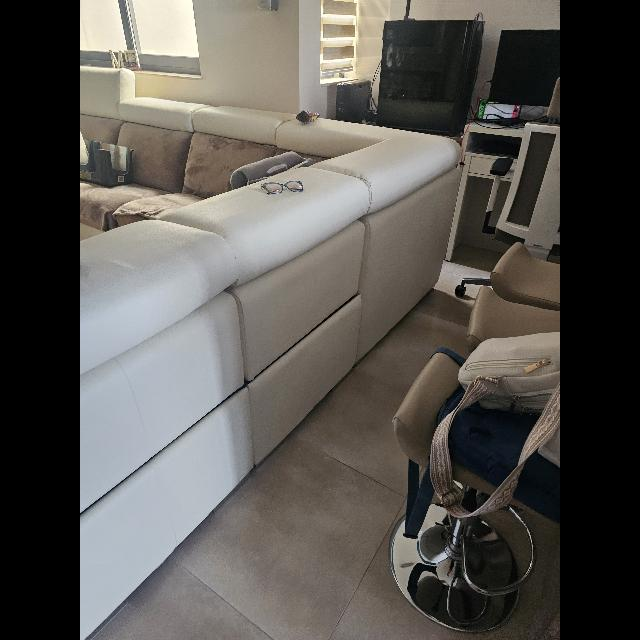glasses: (260, 180, 304, 194)
